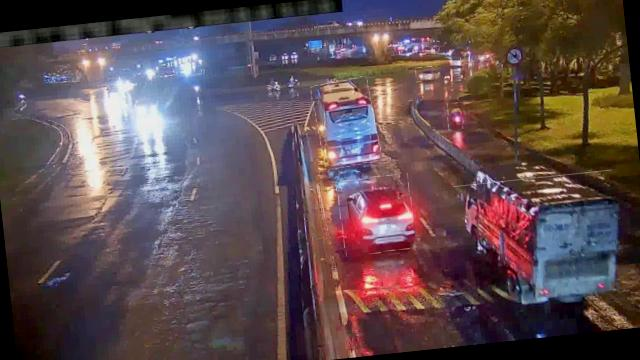Bike: (446, 102, 464, 131)
Bus: (312, 76, 381, 170)
Car: (337, 172, 417, 256), (416, 66, 440, 82)
Truck: (454, 170, 626, 310)
